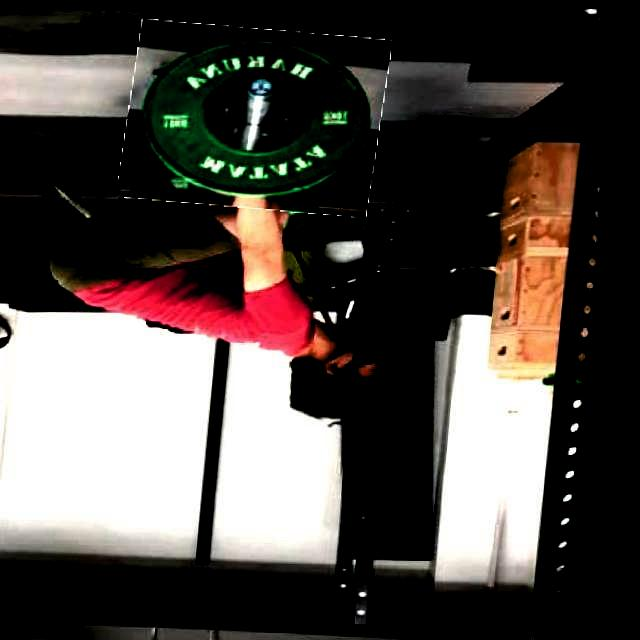barbell: (123, 22, 392, 212)
